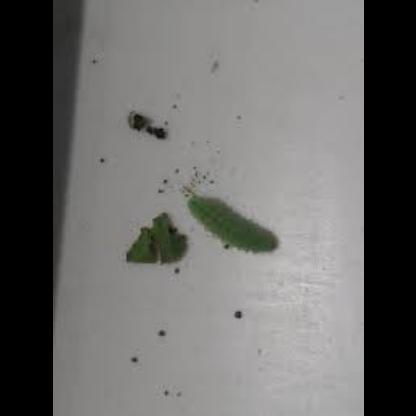oruga: (182, 182, 284, 266)
